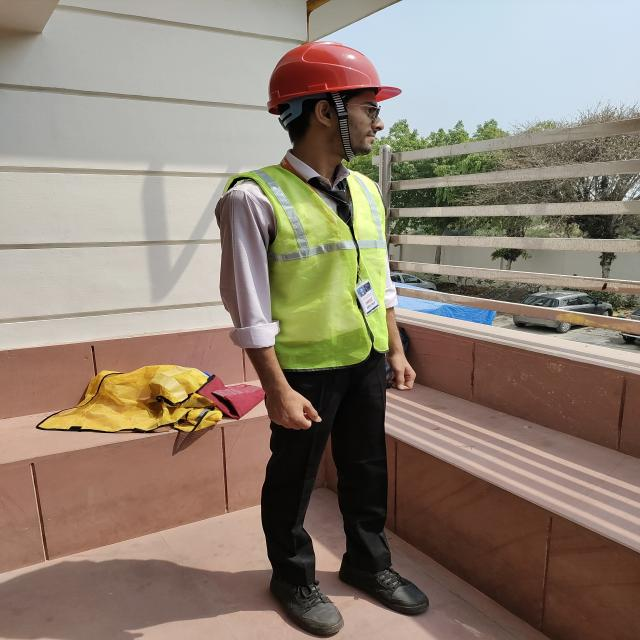safe: (222, 41, 416, 616)
